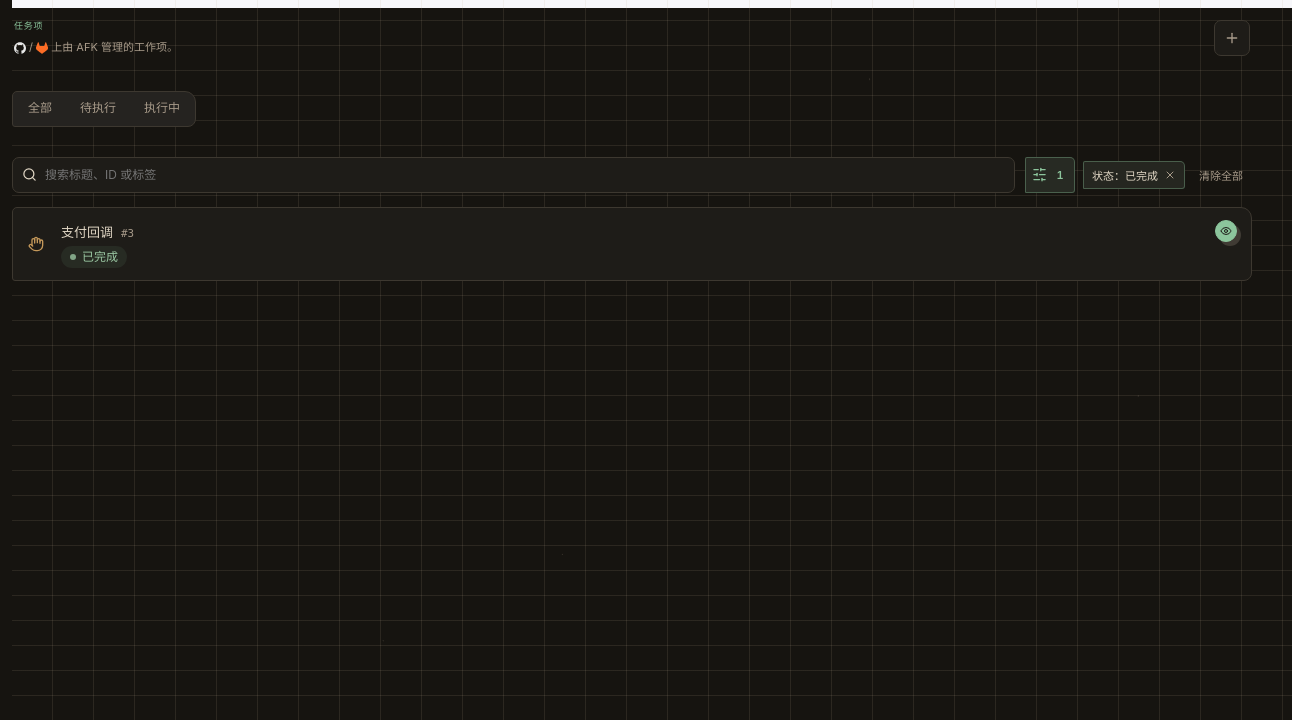
Test: BacklogPage filters › filters rows by state and combines state with the search query
The width and height of the screenshot is (1292, 720).
Type "登录" into the field with placeholder "搜索标题、ID 或标签" at [524, 175], box [43,158,1005,192]
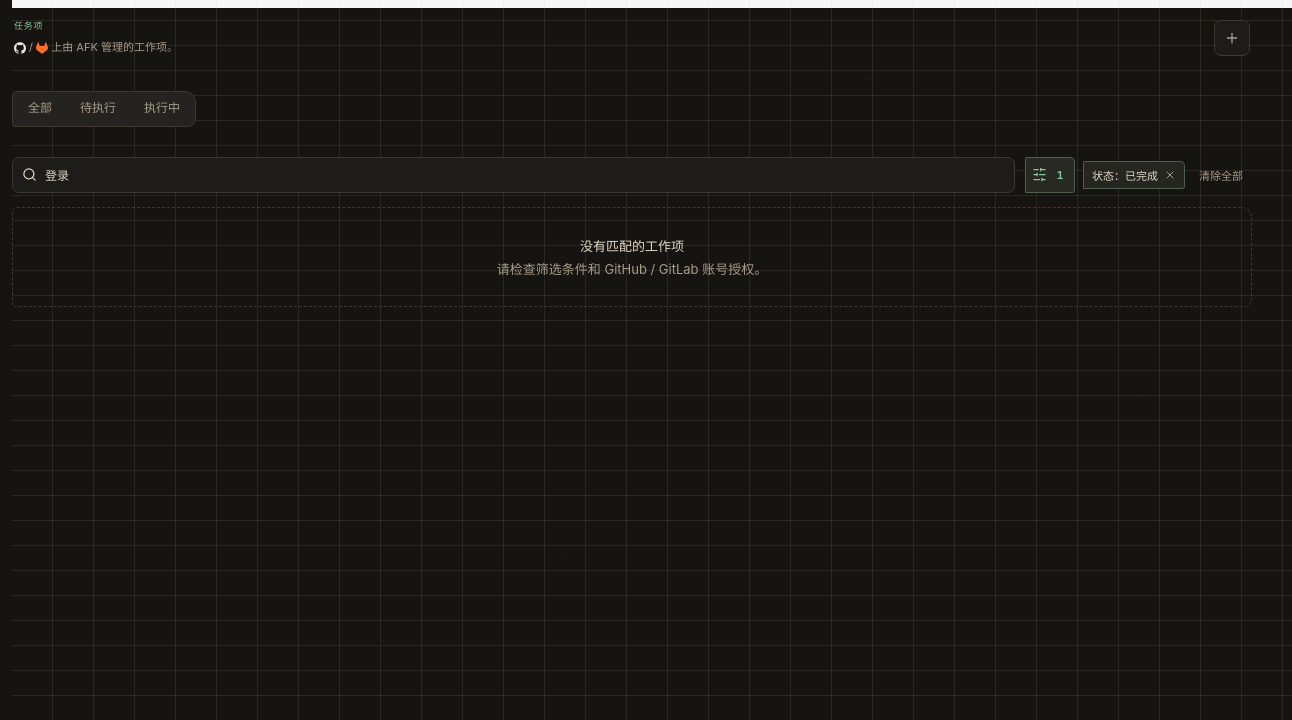
expect the element showing "没有匹配的工作项 请检查筛选条件和 GitHub / GitLab 账号授权。" is shown: met, box [12,207,1252,307]
